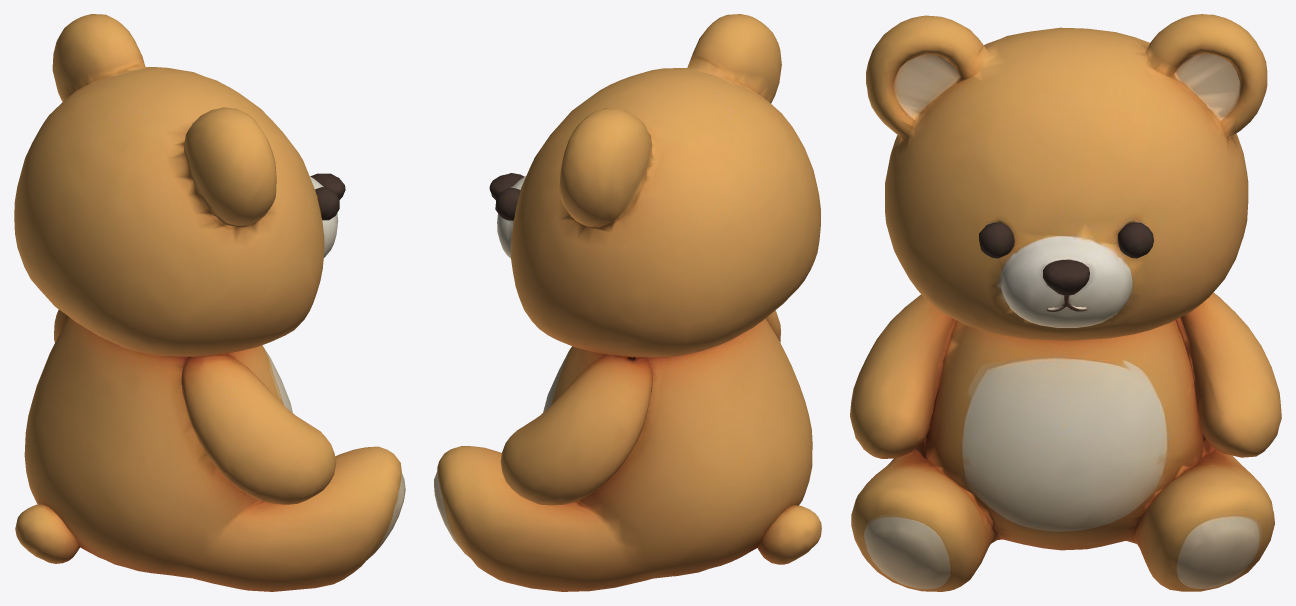
The model's file is teddy.glb.
3 renders of one model, left to right at view 1: azimuth 30°, elevation 25°; view 2: azimuth 150°, elevation 25°; view 3: azimuth 270°, elevation 25°, orthographic. The views are drawn at different scales.
Visible parts, largest first — view 1: tripo_node_1dfb45a1-a41b-4bd3-bc26-0486245faf13; view 2: tripo_node_1dfb45a1-a41b-4bd3-bc26-0486245faf13; view 3: tripo_node_1dfb45a1-a41b-4bd3-bc26-0486245faf13.
Boxes of the visible parts, x1,y1,x2,y2 form: tripo_node_1dfb45a1-a41b-4bd3-bc26-0486245faf13: (14, 14, 405, 591); tripo_node_1dfb45a1-a41b-4bd3-bc26-0486245faf13: (434, 14, 821, 591); tripo_node_1dfb45a1-a41b-4bd3-bc26-0486245faf13: (850, 14, 1281, 591).
Bounding box in the file's own units: 0.6934 × 0.998 × 0.752.
Materials: 1 (1 with a texture image).
